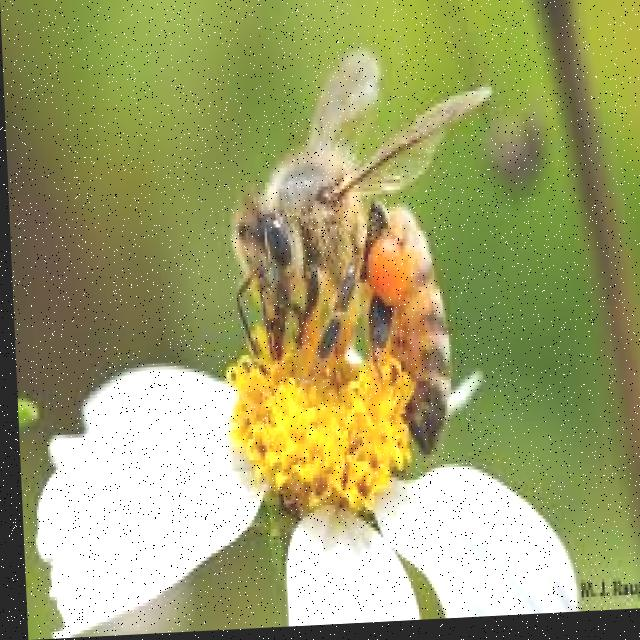Apis-mellifera-scutellata: (185, 25, 490, 484)
